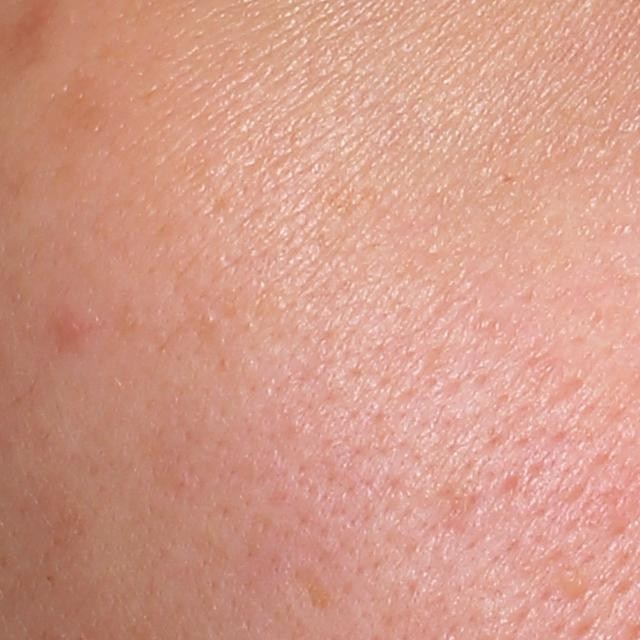atrophic_scar: (284, 563, 338, 620), (439, 481, 479, 542), (538, 375, 584, 415)
comedo: (557, 566, 593, 599)
